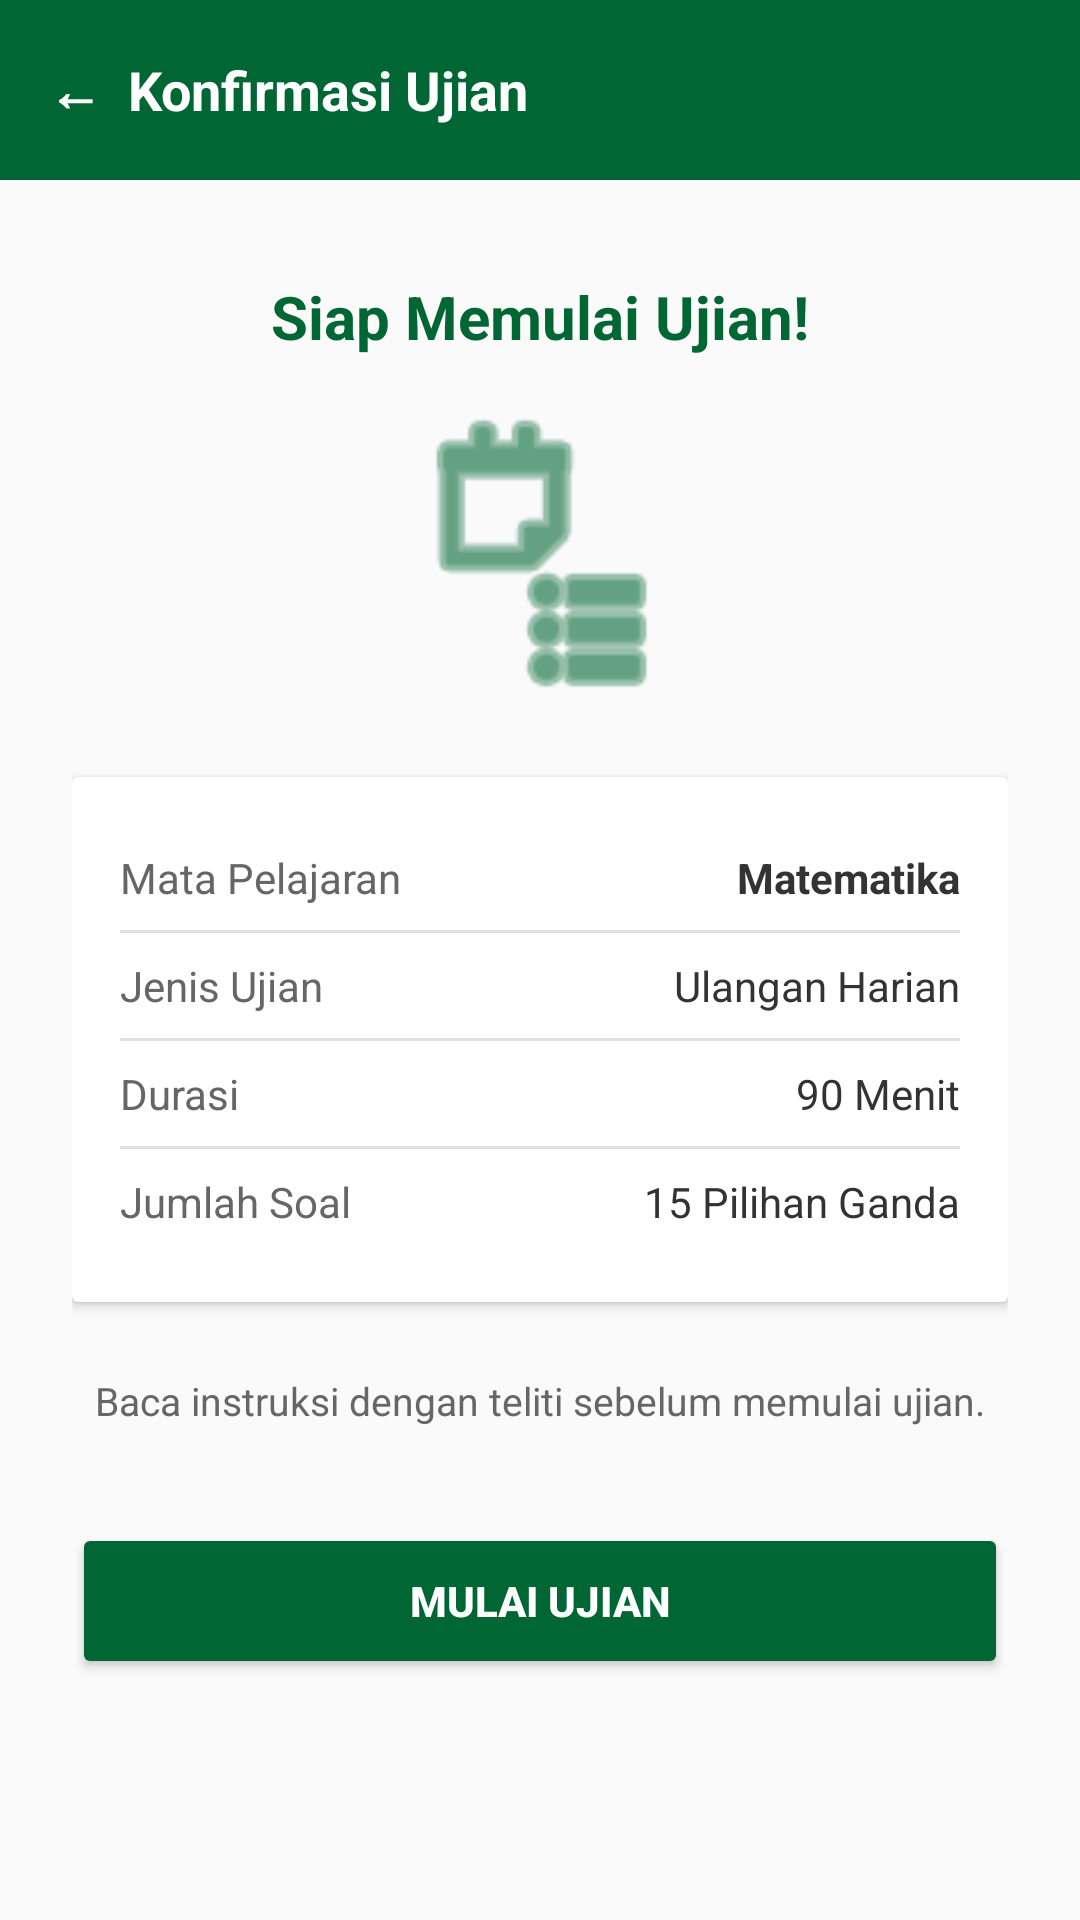

Icons on this 1080 x 1920 Android screen, each with its box as (x1, y1, x2, y2):
agenda: (436, 420, 647, 687)
